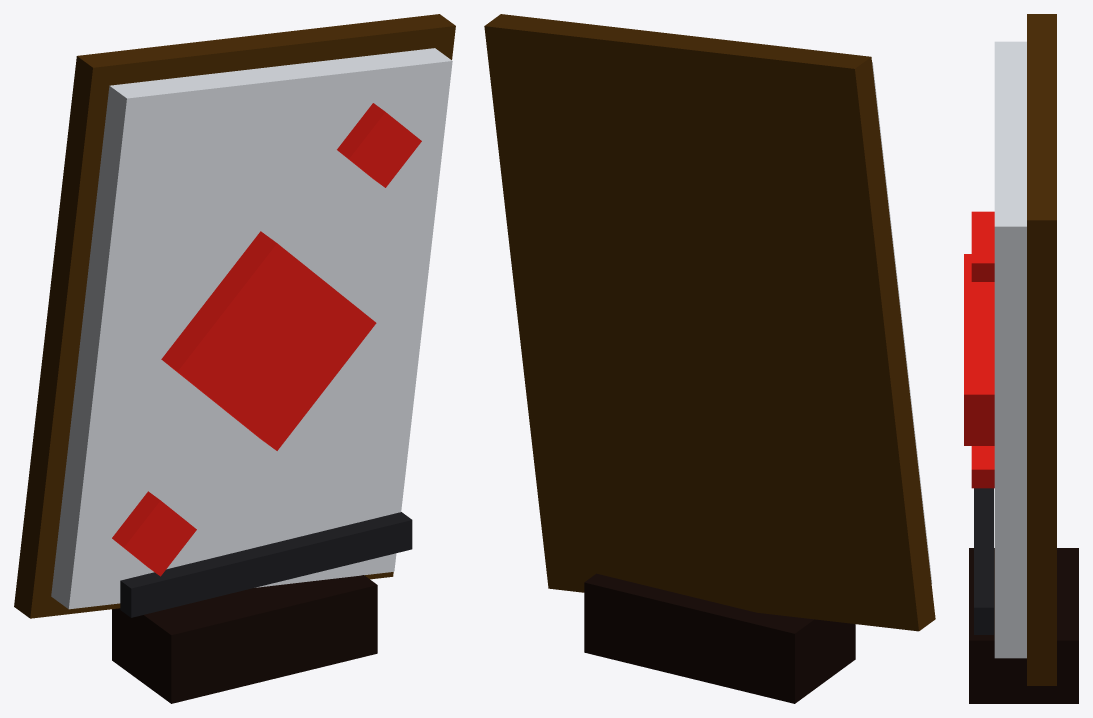
The model's file is UltimaCarta_low.fbx.
3 views of the same model, side by side, from view 1: azimuth 30°, elevation 25°; view 2: azimuth 150°, elevation 25°; view 3: azimuth 270°, elevation 25° (orthographic). The views are drawn at different scales.
Visible parts, largest first — view 1: UltimaCarta_low; view 2: UltimaCarta_low; view 3: UltimaCarta_low.
Part boxes in pixels (box(x1,y1,x2,y2)): UltimaCarta_low: box(14, 14, 455, 703); UltimaCarta_low: box(484, 14, 935, 703); UltimaCarta_low: box(964, 14, 1078, 703).
Bounding box in the file's own units: 45.41 × 63.67 × 11.5.
